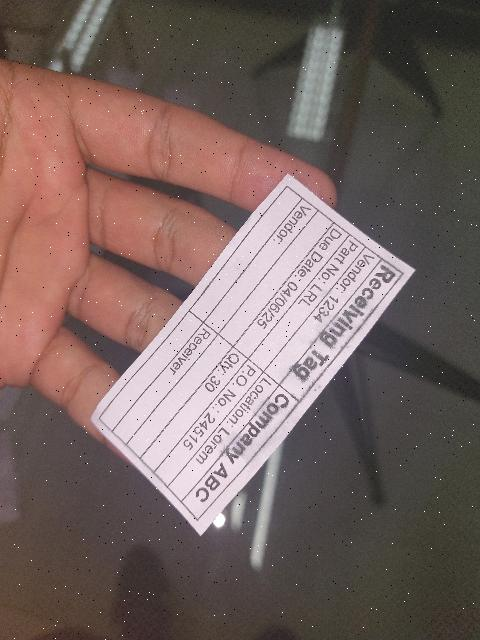PO no: (152, 358, 266, 487)
part no: (244, 235, 365, 372)
qty: (140, 342, 248, 473)
tags: (90, 177, 415, 538)
